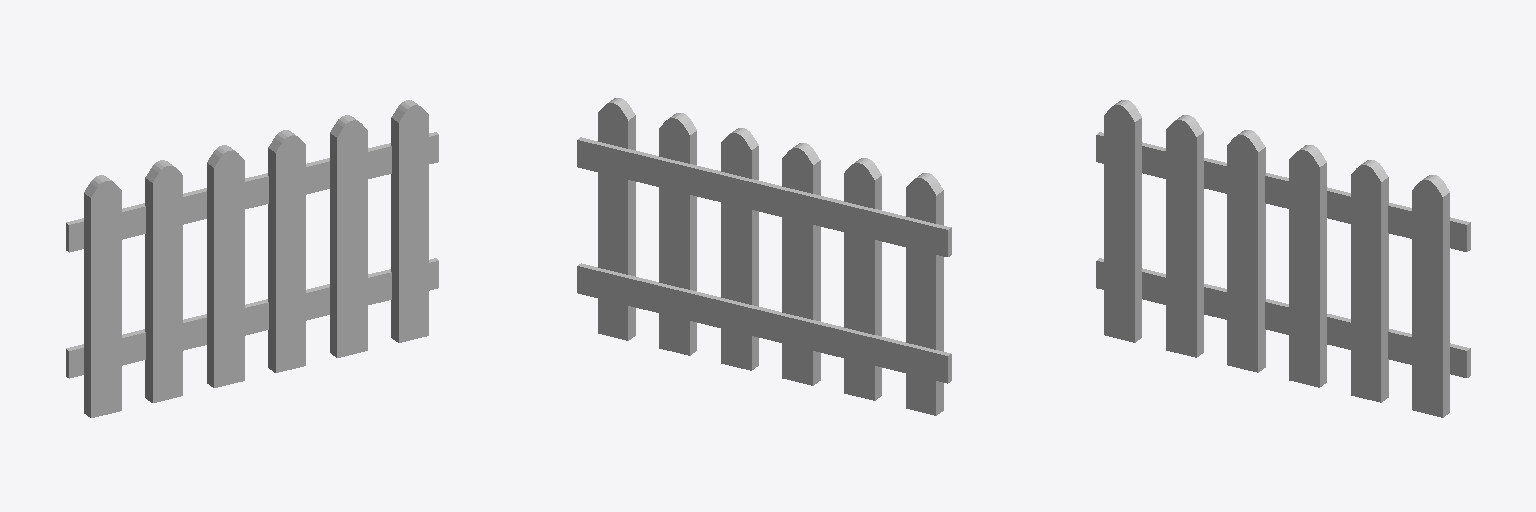
The model's file is fence.obj.
3 renders of one model, left to right at view 1: azimuth 30°, elevation 25°; view 2: azimuth 150°, elevation 25°; view 3: azimuth 330°, elevation 25°, orthographic.
Parts seen in each view (by area): view 1: Cube.002; view 2: Cube.002; view 3: Cube.002.
Part boxes in pixels (x1,y1,x2,y2): Cube.002: (66, 100, 438, 417); Cube.002: (577, 98, 951, 415); Cube.002: (1096, 100, 1470, 417).
Bounding box in the file's own units: 2 × 1.21 × 0.1007.